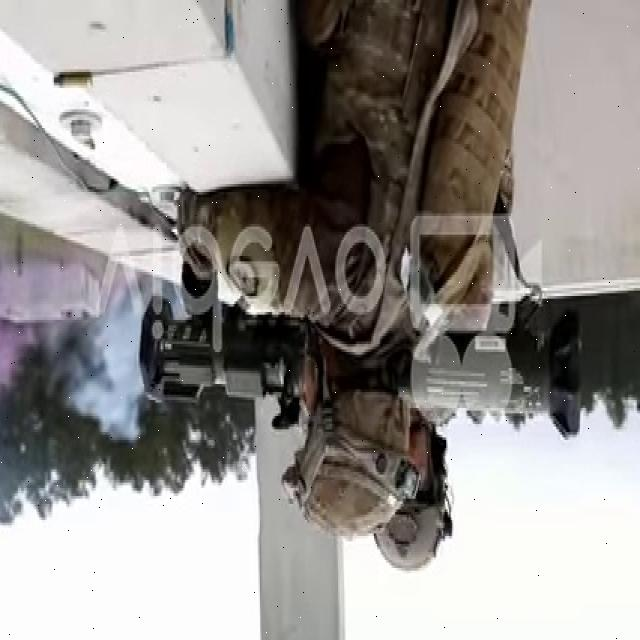bazooka: (136, 291, 592, 444)
